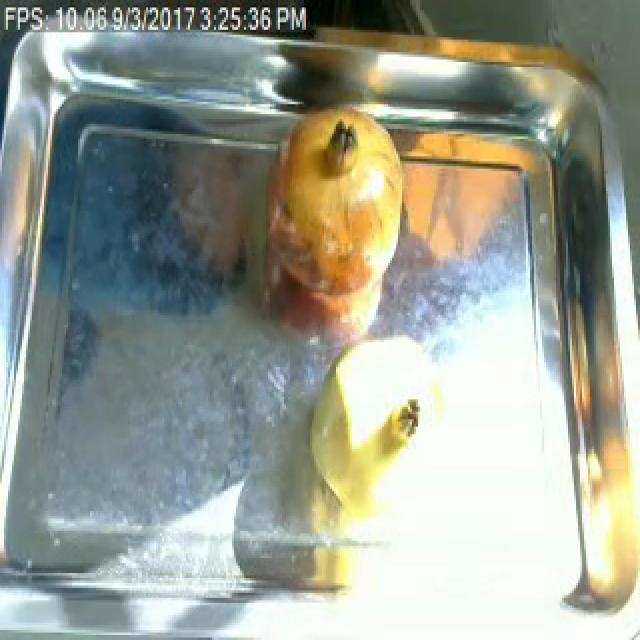fruit: (254, 96, 412, 318), (300, 320, 466, 528)
